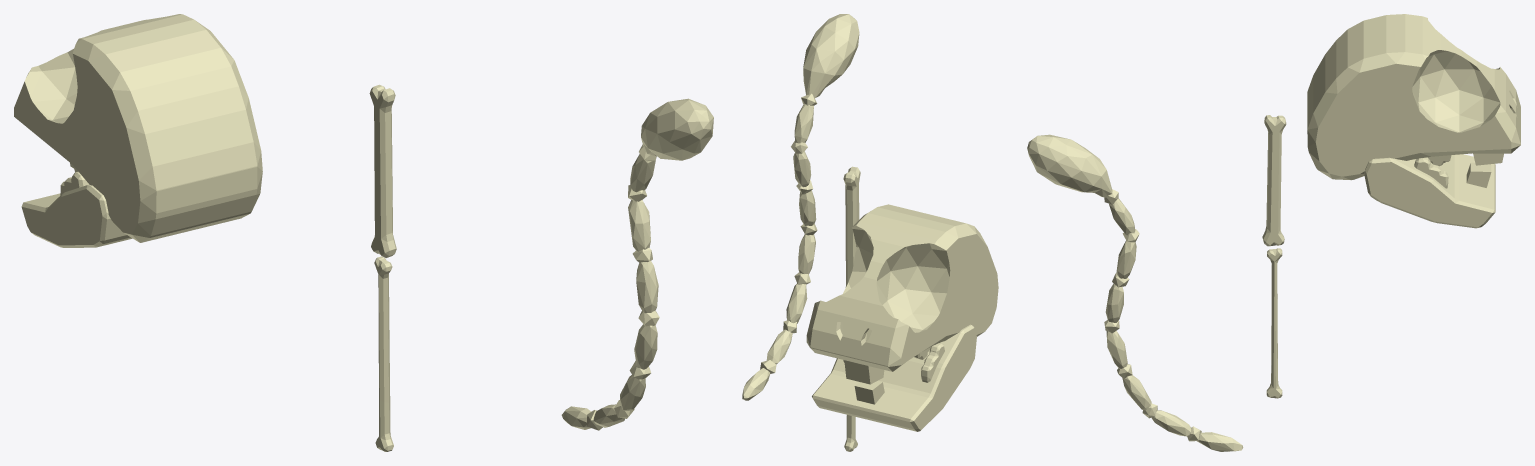
Rendered from bones.fbx.
3 renders of one model, left to right at view 1: azimuth 30°, elevation 25°; view 2: azimuth 150°, elevation 25°; view 3: azimuth 270°, elevation 25°, orthographic. The views are drawn at different scales.
Parts seen in each view (by area): view 1: Cube, Sphere, Cube.001, Cube.015, Cube.016; view 2: Cube, Sphere, Cube.001, Cube.015, Cube.002, Cube.003, Cube.005, Cube.016; view 3: Cube, Sphere, Cube.001, Cube.015, Cube.016, Cube.003, Cube.005.
Boxes of the visible parts, x1,y1,x2,y2 form: Cube: [14, 14, 262, 242]; Sphere: [561, 98, 713, 430]; Cube.001: [21, 184, 132, 247]; Cube.015: [369, 84, 396, 257]; Cube.016: [374, 256, 393, 451]; Cube: [806, 204, 998, 371]; Sphere: [742, 14, 859, 400]; Cube.001: [812, 324, 976, 431]; Cube.015: [843, 166, 860, 287]; Cube.002: [844, 360, 884, 384]; Cube.003: [854, 381, 884, 404]; Cube.005: [843, 343, 944, 382]; Cube.016: [844, 415, 857, 451]; Cube: [1307, 14, 1520, 180]; Sphere: [1027, 134, 1243, 451]; Cube.001: [1364, 154, 1495, 228]; Cube.015: [1262, 115, 1286, 246]; Cube.016: [1266, 248, 1282, 398]; Cube.003: [1466, 162, 1491, 187]; Cube.005: [1414, 157, 1448, 188].
Bounding box in the file's own units: 269 × 262 × 364.
